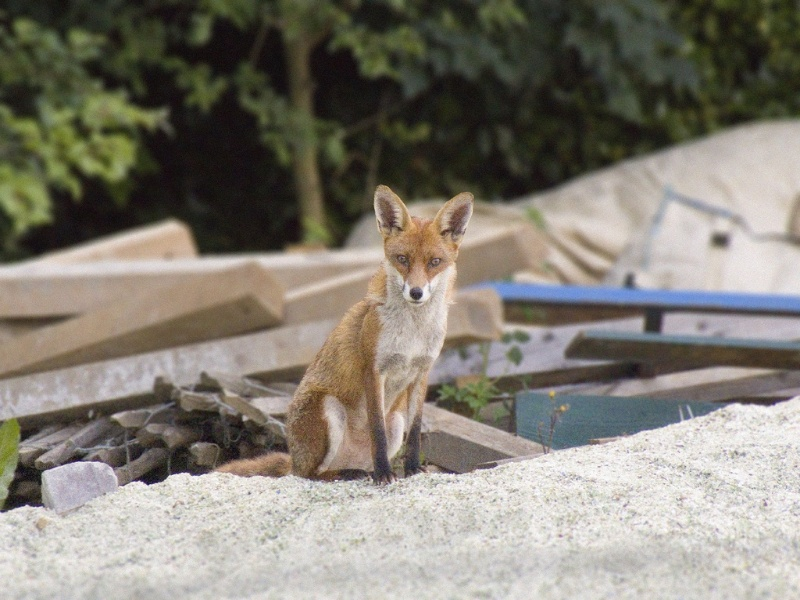fox: (205, 182, 478, 494)
